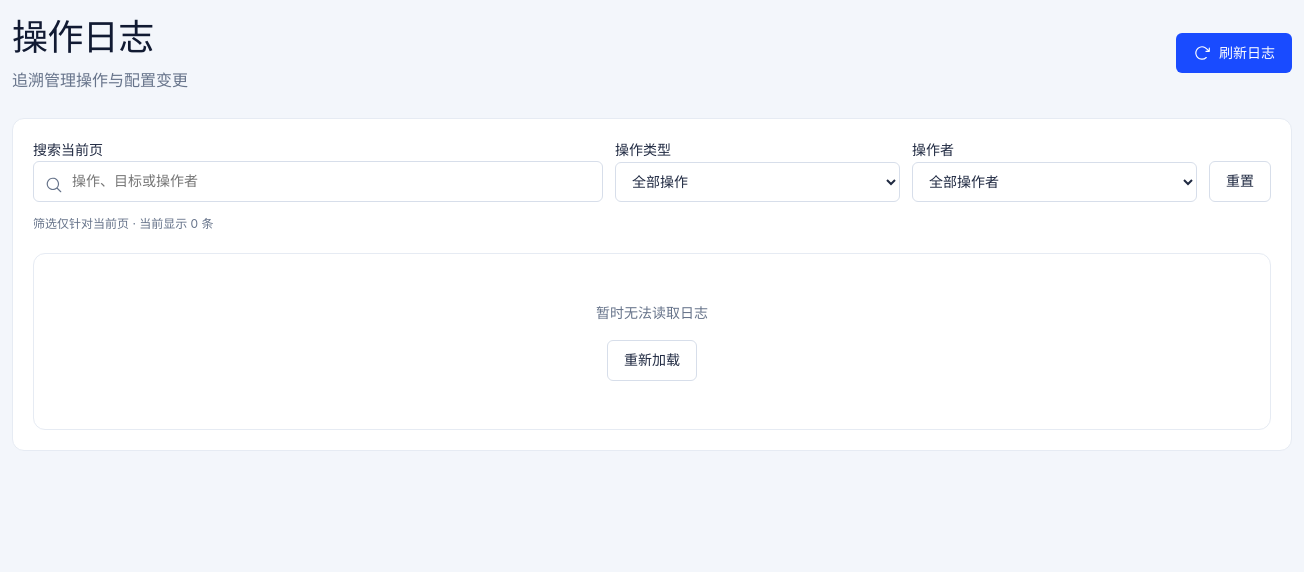
Scenario: request and audit records › shows an audit fetch error and supports retry without leaving the page
Expected: the message "暂时无法读取日志" is shown, [596, 302, 708, 324]
Click the button "重新加载". click: (652, 360)
box: [607, 340, 697, 381]
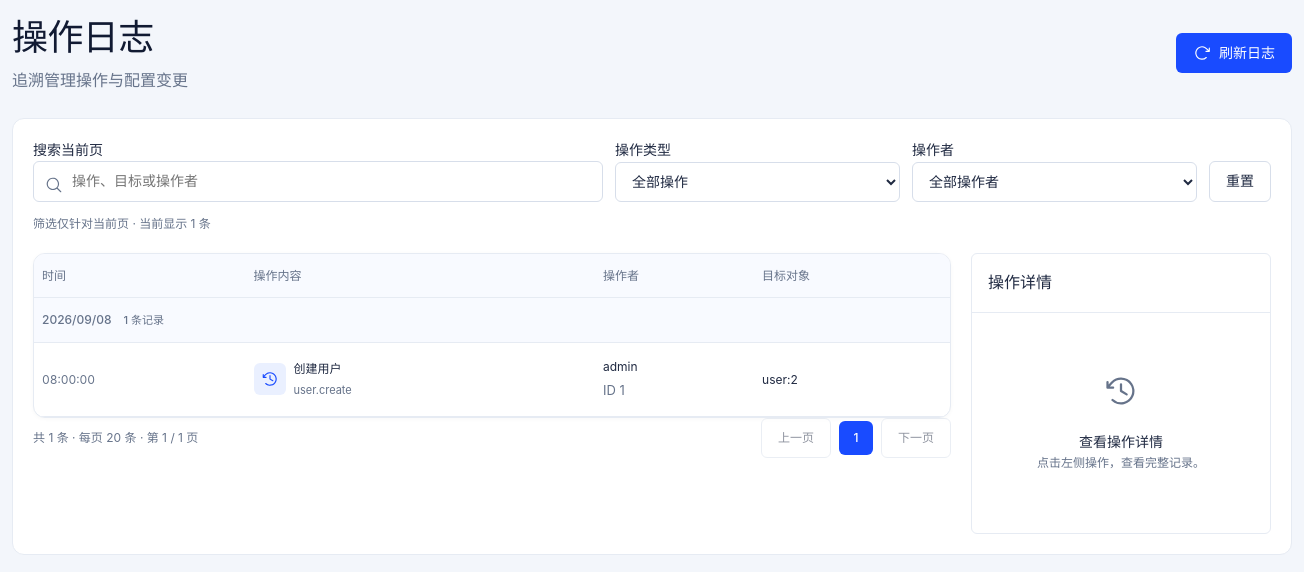
Expected: the text "user.create" is shown, [294, 382, 352, 400]
